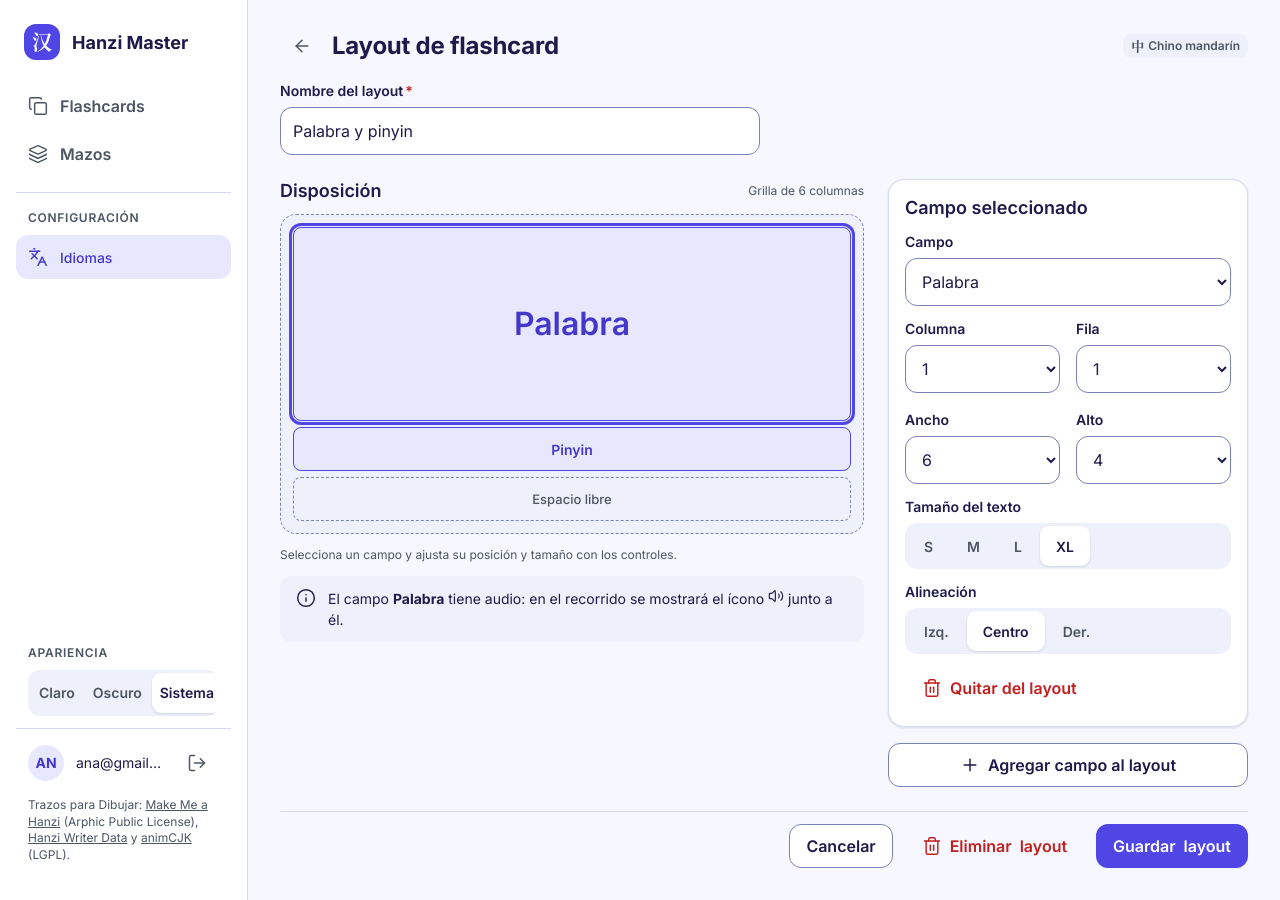
I04 · Editor de layout › I04-3 no permite salirse de la grilla
Check: the field labelled "Nombre del layout*" is shown, box [280,107,760,155]
Click the button with aria-label "Pinyin,". click: coordinates (572, 449)
box: [293,427,851,471]
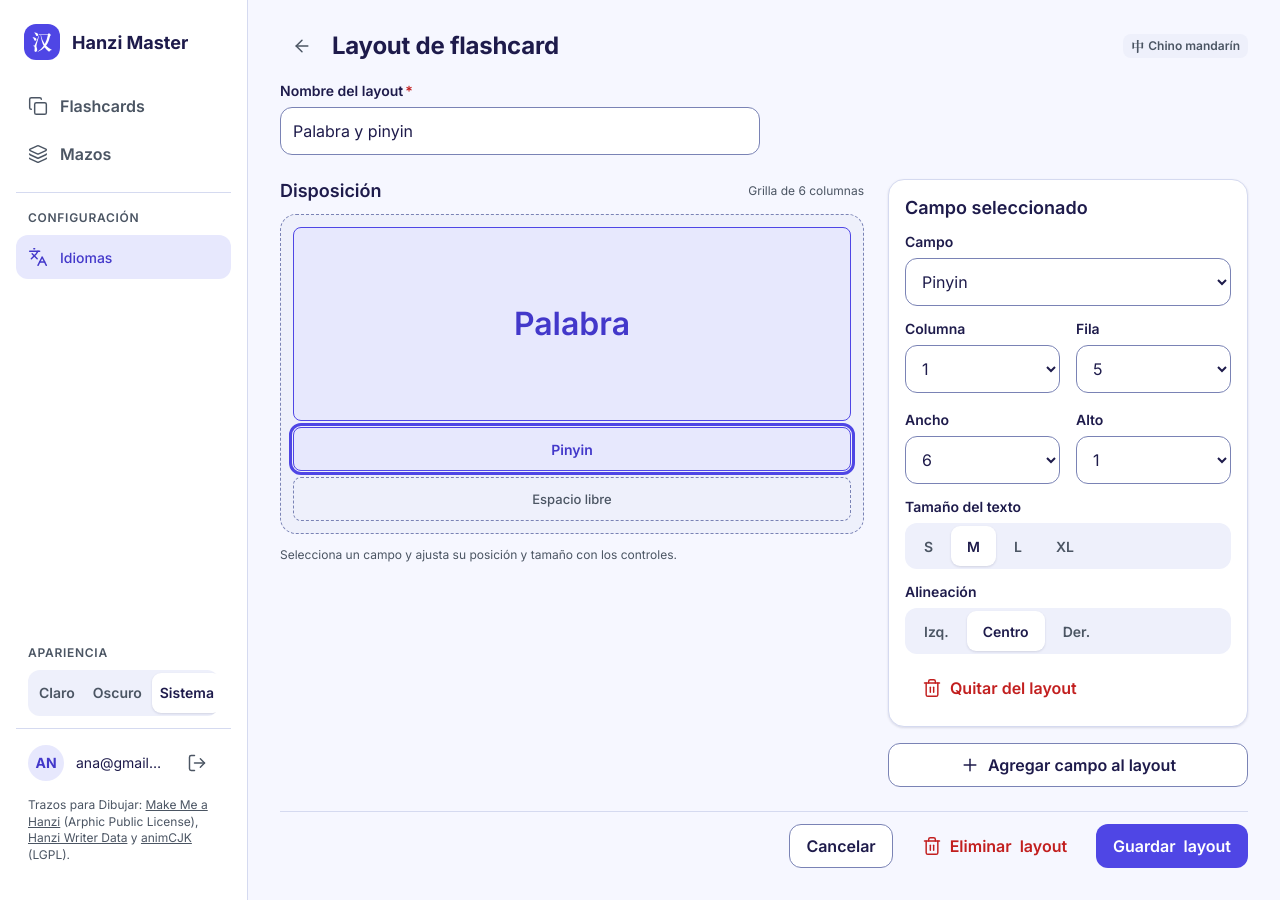
Select "4" in the dropdown labelled "Columna". click: coordinates (982, 369)
box: [905,345,1060,393]
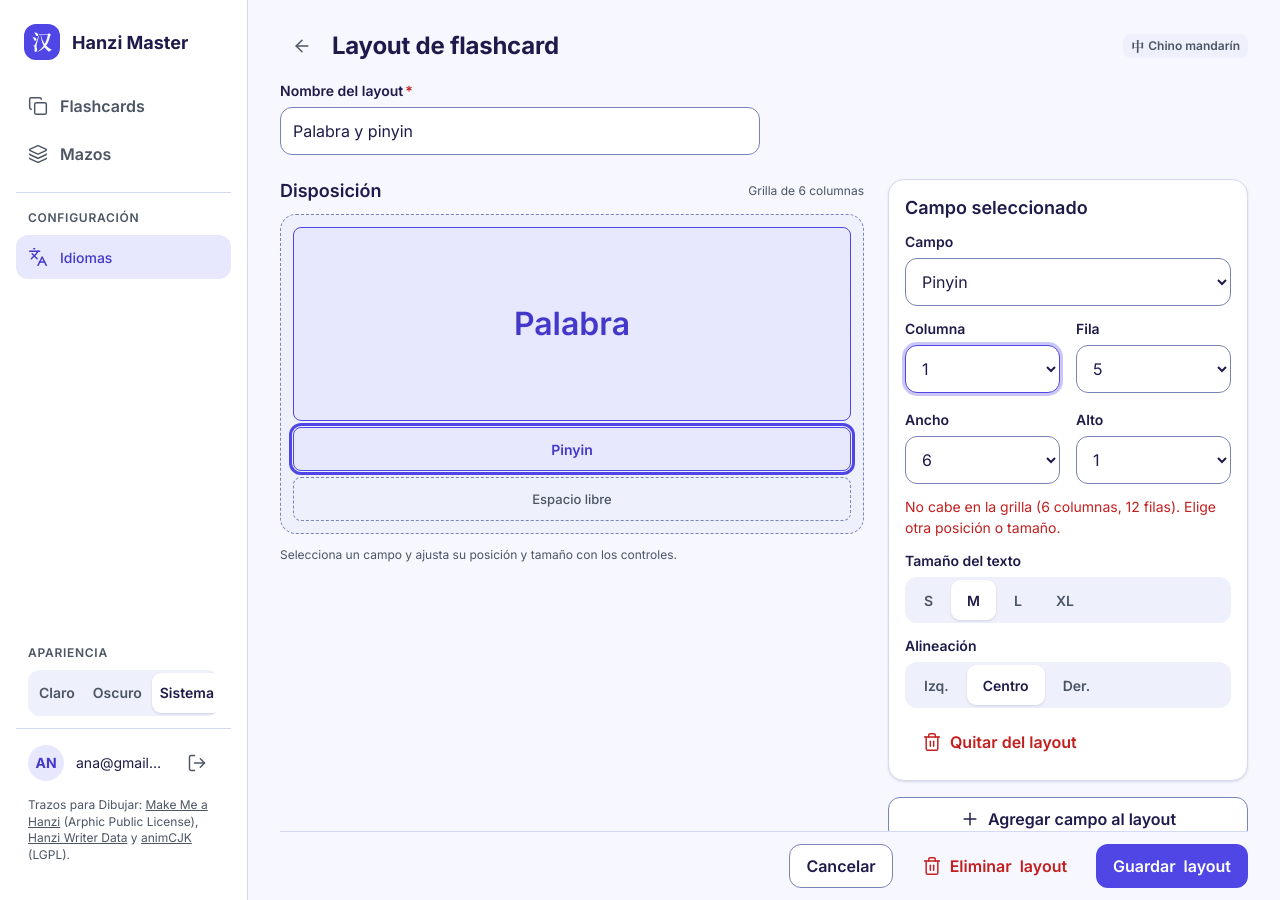
Check: the message shows "No cabe en la grilla", box [905,498,1216,536]
